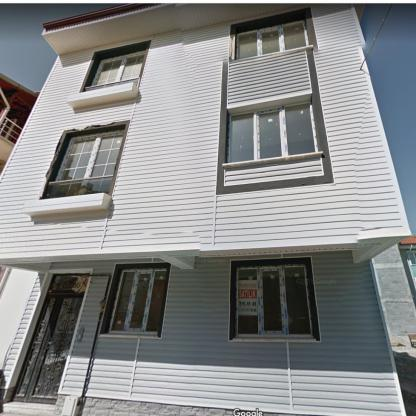door: (12, 273, 90, 404)
window: (226, 101, 319, 164), (236, 264, 313, 337), (109, 268, 167, 336), (54, 130, 124, 182), (235, 20, 309, 60), (91, 50, 146, 86), (409, 250, 416, 264)
